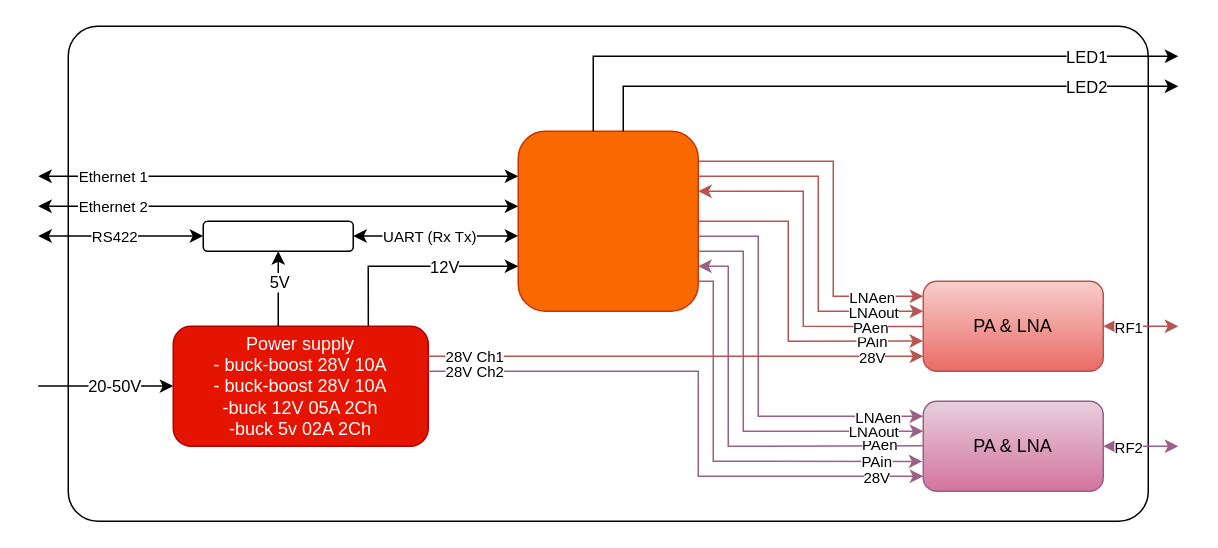
The diagram is 1218 pixels wide and 548 high, and some of its shapes have lost their labels. Each missing label, with the centre of its shape:
Modem: pixel 607 220
RS422 <-> UART: pixel 277 235
